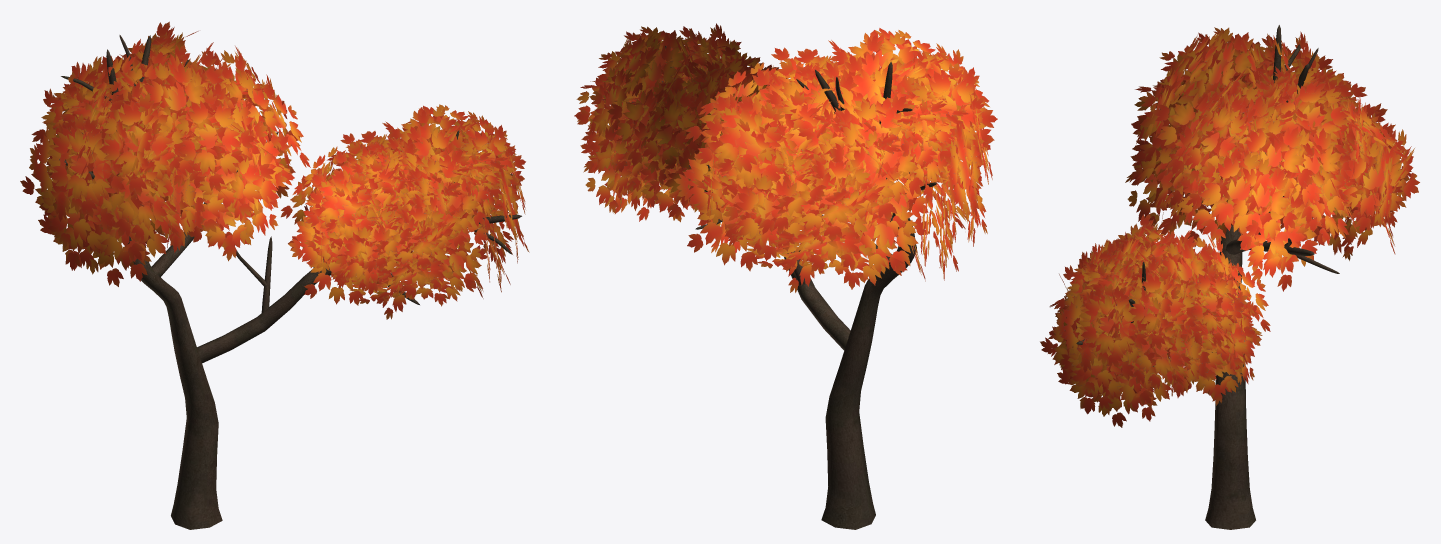
File: autumn_maple_tree.glb
3 views of the same model, side by side, from view 1: azimuth 30°, elevation 25°; view 2: azimuth 150°, elevation 25°; view 3: azimuth 270°, elevation 25° (orthographic). The views are drawn at different scales.
Visible parts, largest first — view 1: MapleTree_1; view 2: MapleTree_1; view 3: MapleTree_1.
Boxes of the visible parts, x1,y1,x2,y2 form: MapleTree_1: (20,21,529,529); MapleTree_1: (574,23,997,529); MapleTree_1: (1040,25,1419,529).
Bounding box in the file's own units: 0.9375 × 1 × 0.7381.
2 materials, 2 textured.
